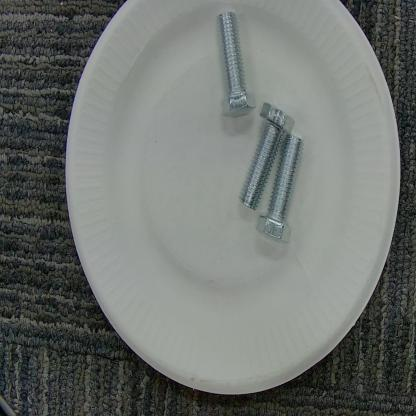FOD: (212, 3, 309, 254)
